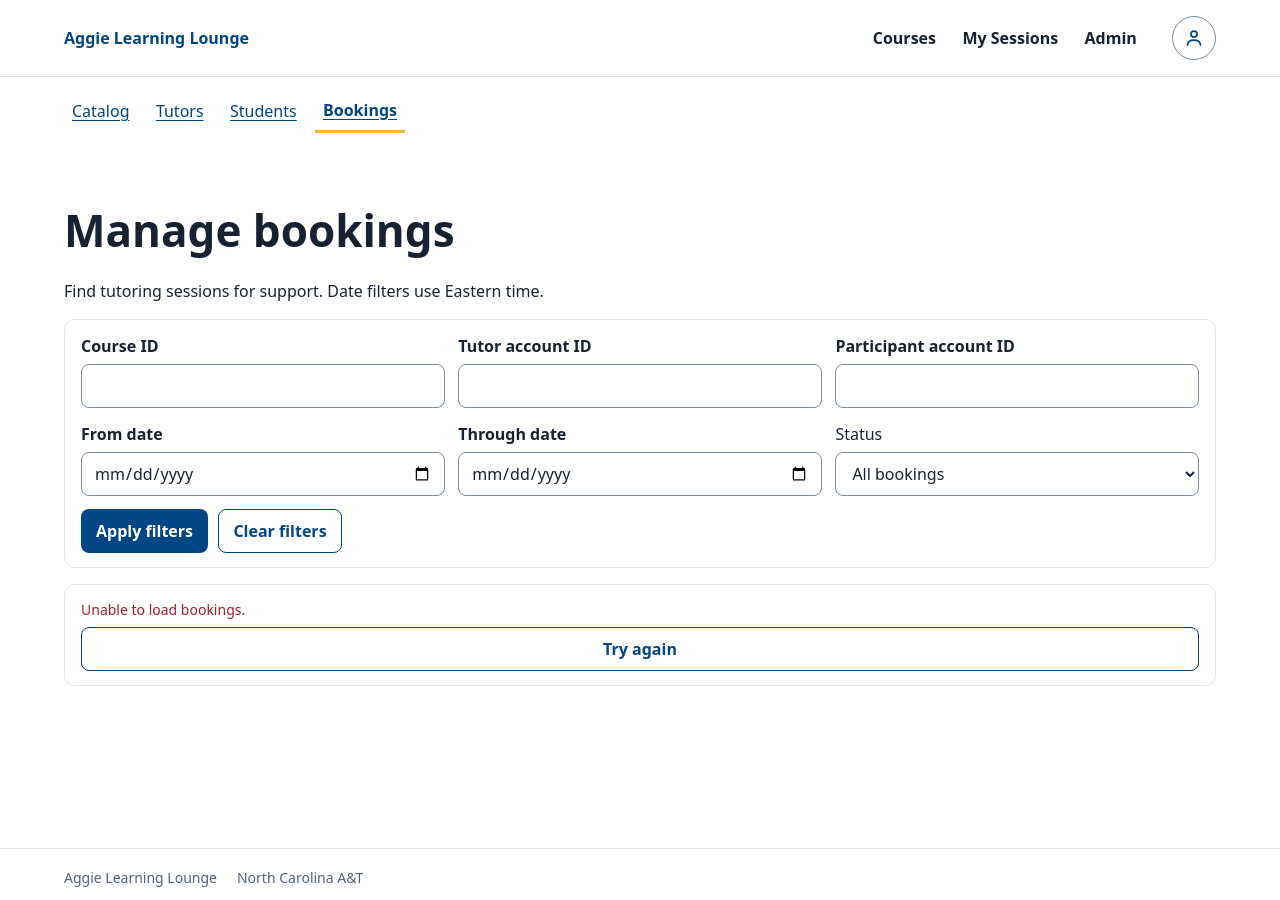
Test: Phase 5 — Admin support and pilot readiness › offers a retry after a request failure and shows a distinct empty state on success
Expected: the message reads "Unable to load bookings.", [81,600,245,619]
What coordinates should you click on to do the following:
click the button "Try again"
I would click on:
 (640, 649)
Its box is [81,627,1199,671].
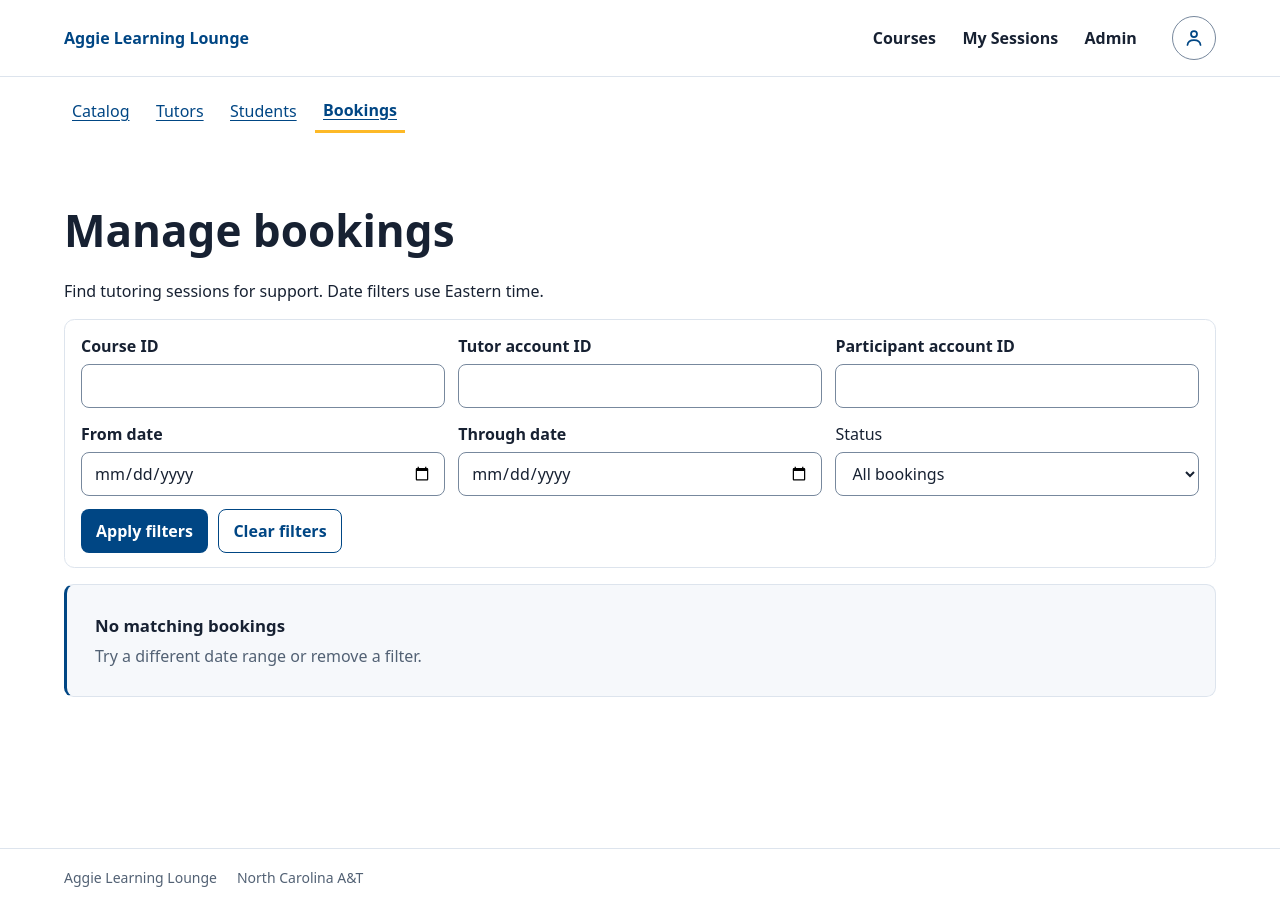
Now the heading "No matching bookings" is shown, box [95,614,285,637]
